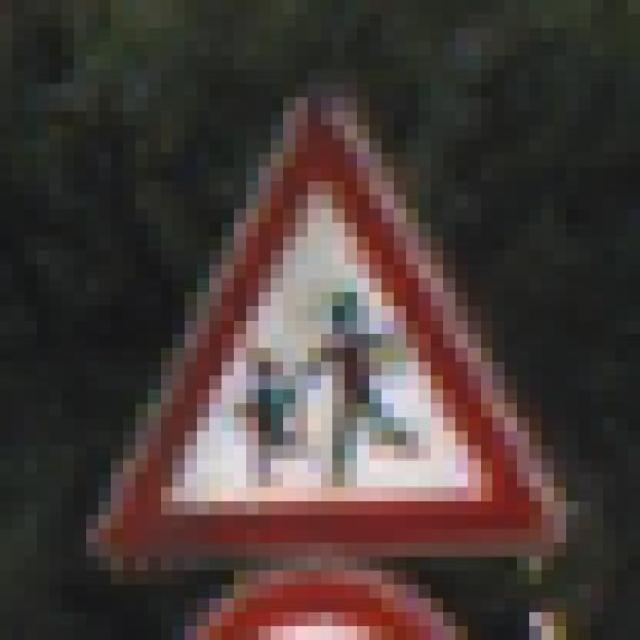Beware of children: (74, 69, 591, 585)
